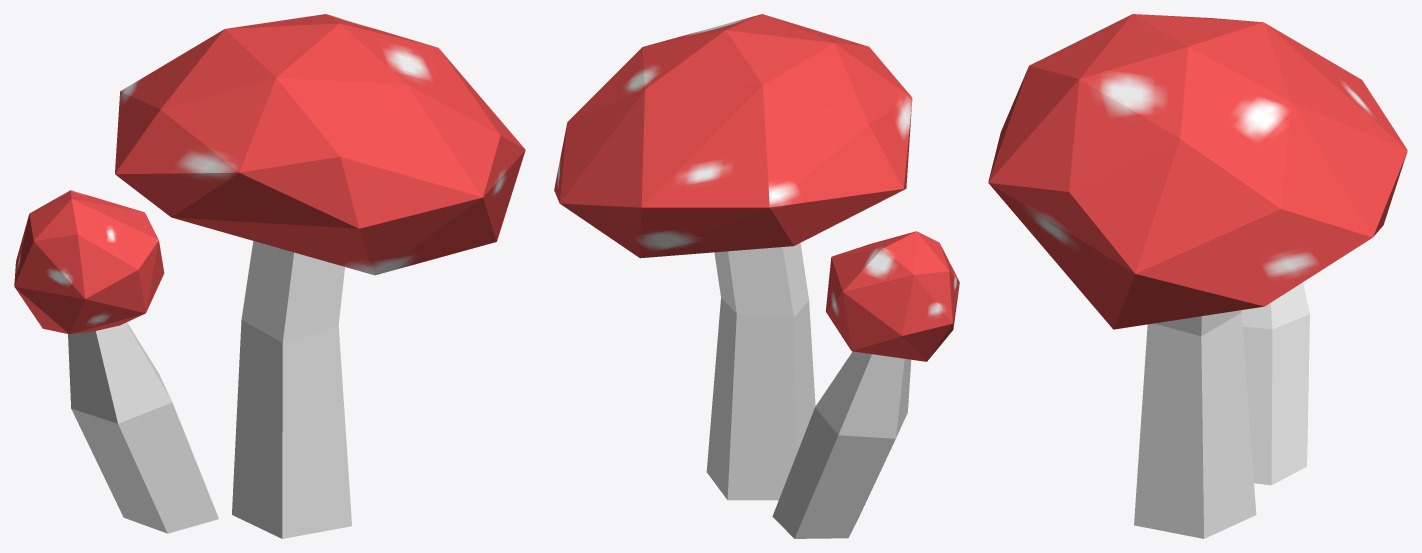
The model's file is Mushroom_e_08.fbx.
3 renders of one model, left to right at view 1: azimuth 30°, elevation 25°; view 2: azimuth 150°, elevation 25°; view 3: azimuth 270°, elevation 25°, orthographic. The views are drawn at different scales.
Parts seen in each view (by area): view 1: Mushroom_e_08; view 2: Mushroom_e_08; view 3: Mushroom_e_08.
Part boxes in pixels (box(x1,y1,x2,y2)): Mushroom_e_08: box(14, 14, 525, 538); Mushroom_e_08: box(554, 14, 959, 538); Mushroom_e_08: box(988, 14, 1407, 538).
Size of the model in its own units: 0.2939 by 0.3029 by 0.2362.
